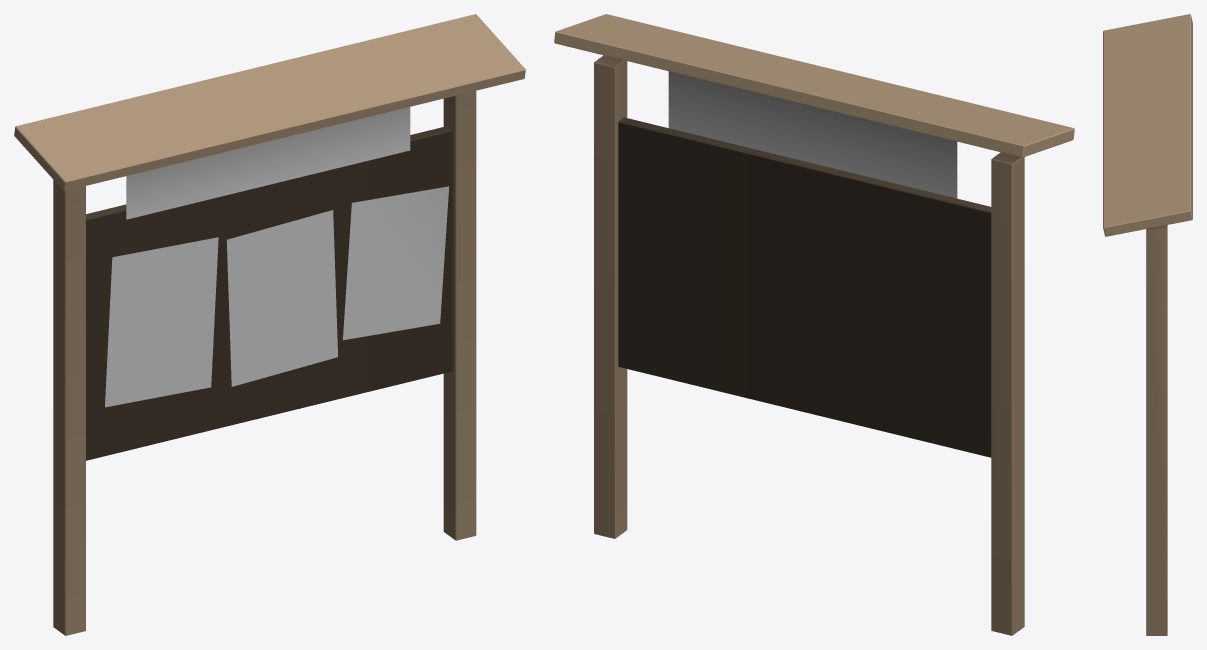
Rendered from notice_board.glb.
3 renders of one model, left to right at view 1: azimuth 30°, elevation 25°; view 2: azimuth 150°, elevation 25°; view 3: azimuth 270°, elevation 25°, orthographic. The views are drawn at different scales.
Parts seen in each view (by area): view 1: notice_board; view 2: notice_board; view 3: notice_board.
Boxes of the visible parts, left/top/right/bottom form: notice_board: left=14, top=14, right=525, bottom=635; notice_board: left=554, top=14, right=1074, bottom=635; notice_board: left=1103, top=14, right=1192, bottom=635.
Bounding box in the file's own units: 2.6 × 2.68 × 0.4999.
